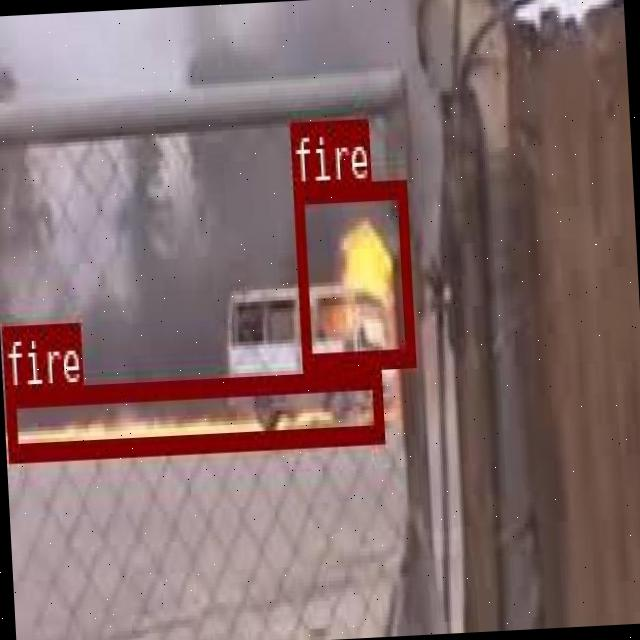fire: (5, 368, 381, 456), (292, 179, 414, 366)
